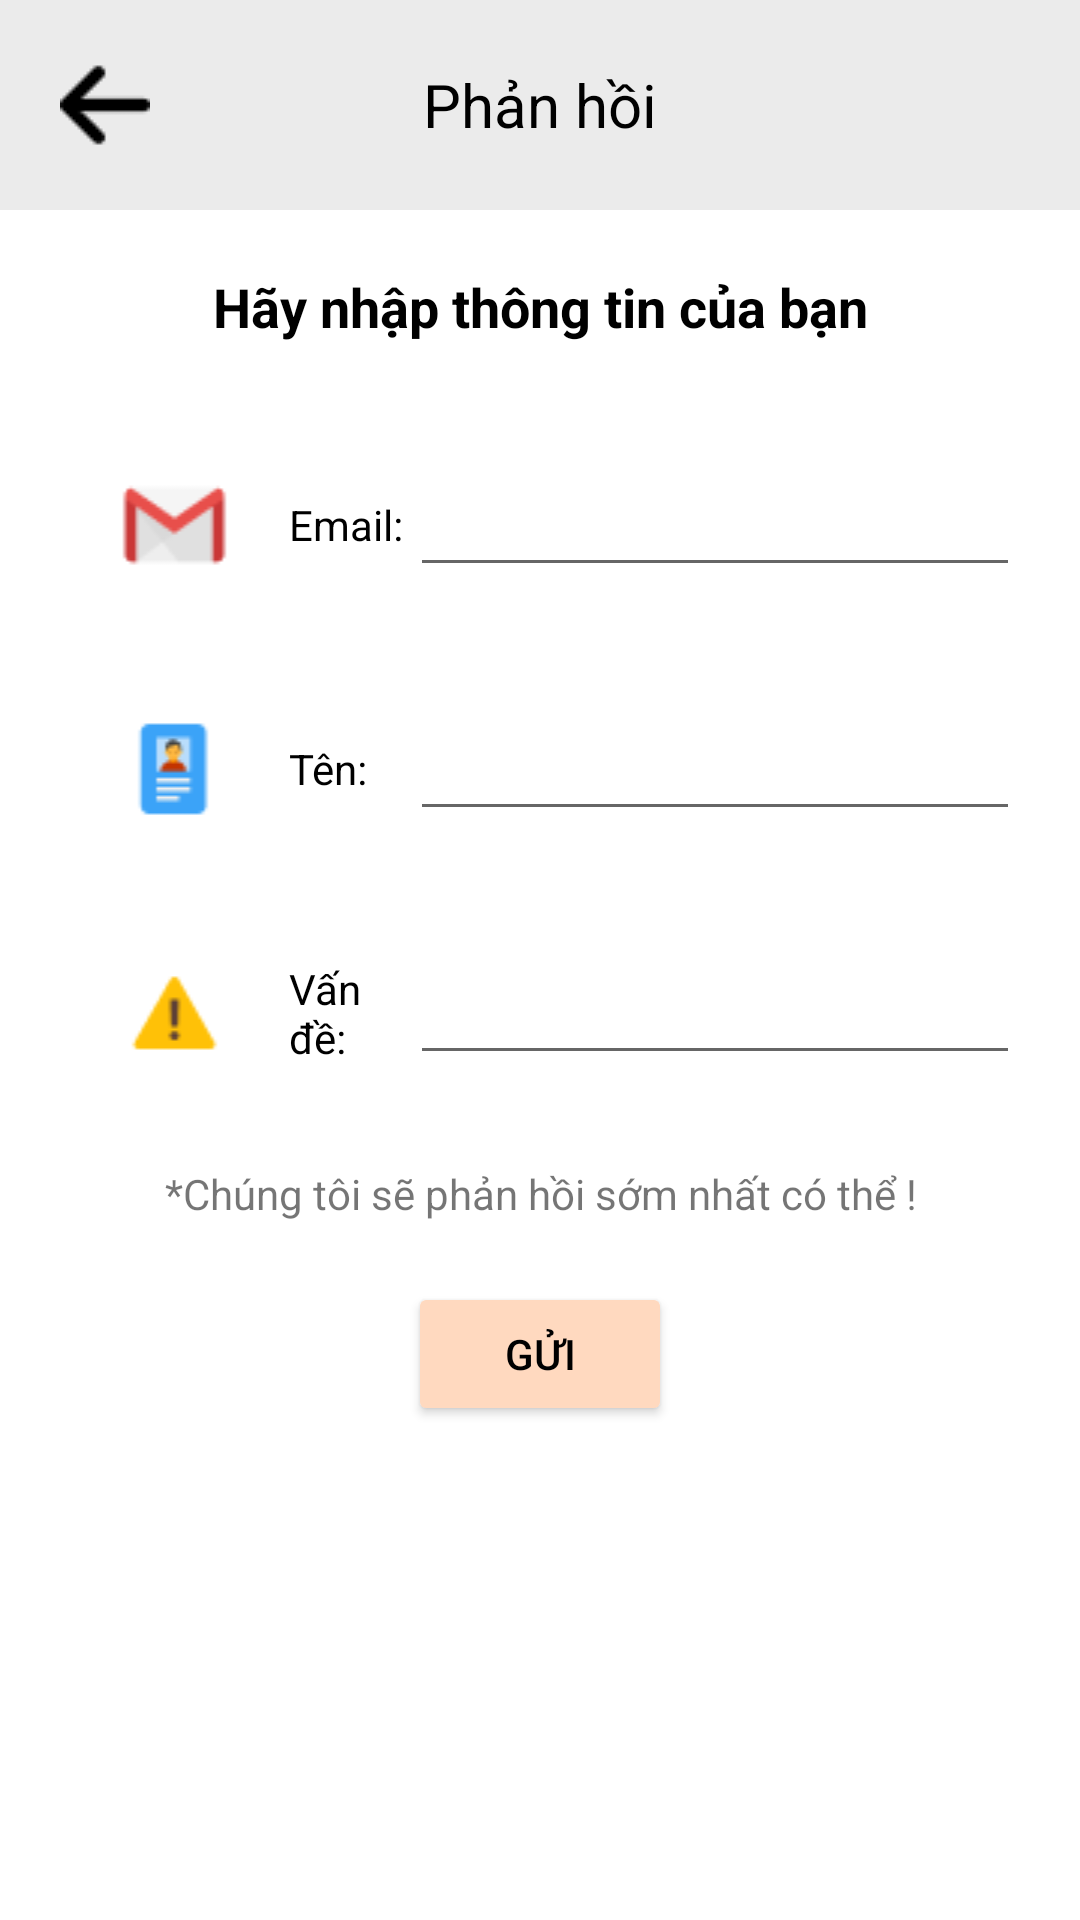

Icon bounding boxes for this 1080 x 1920 phone screenshot, format (left=x1, top=y1, right=x2, bottom=y2):
back: (left=60, top=65, right=150, bottom=145)
settings name: (left=138, top=723, right=208, bottom=815)
settings problem: (left=132, top=976, right=217, bottom=1050)
